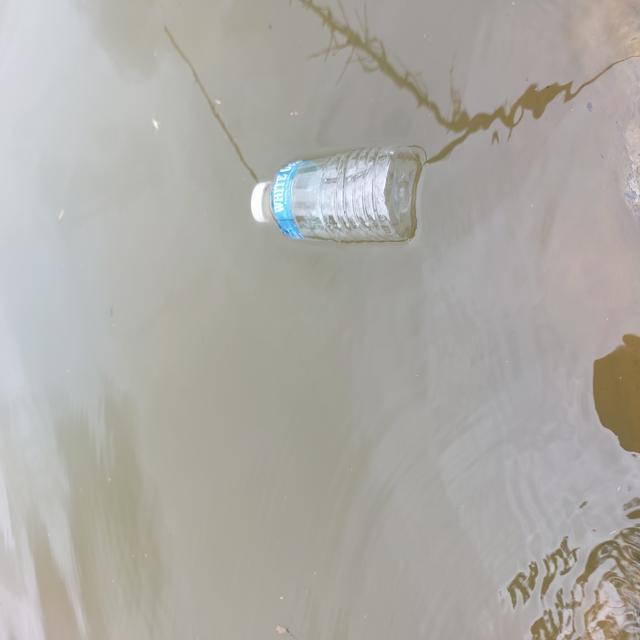waterbottle: (235, 149, 444, 274)
